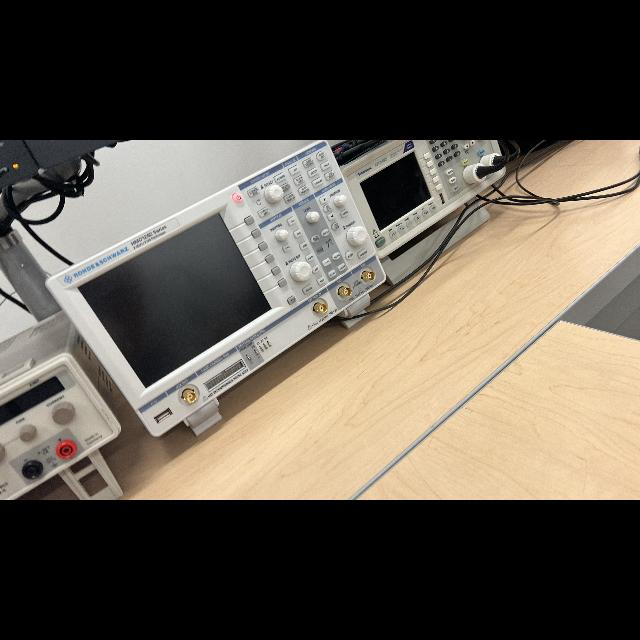Digital-Oscilloscope: (47, 141, 385, 436)
